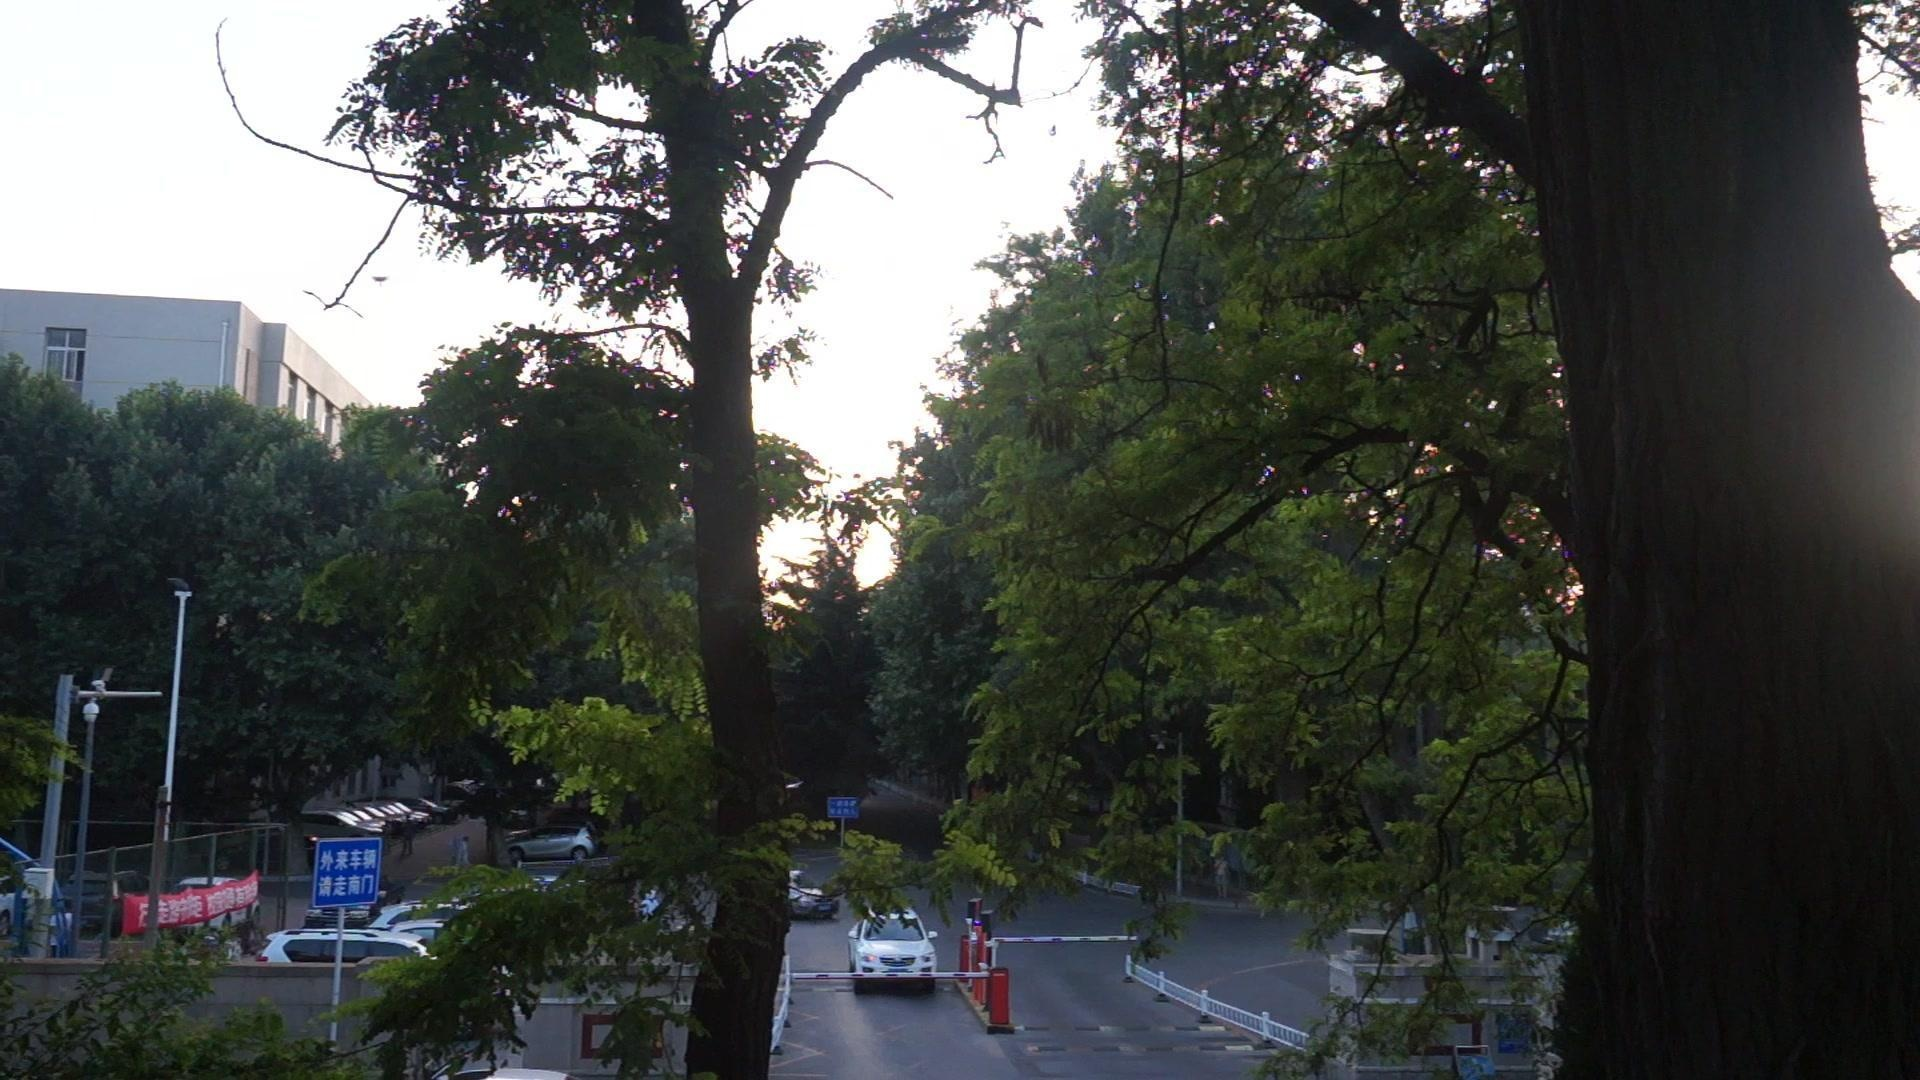UAV: (372, 277, 392, 284)
